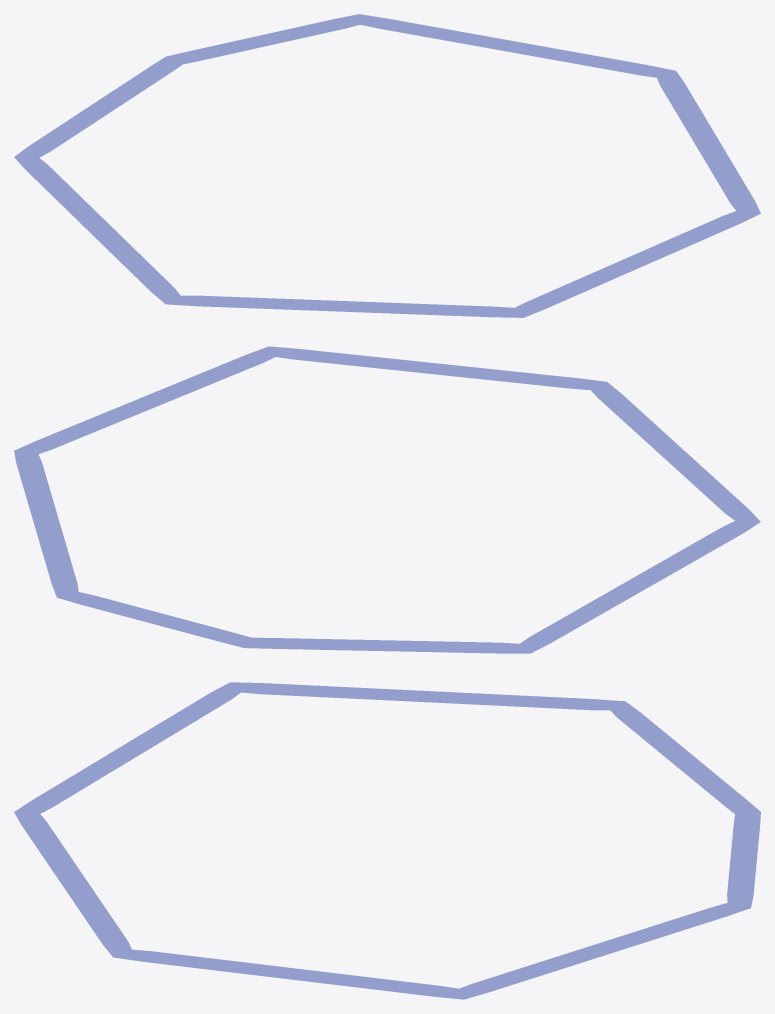
Rendered from medium.ring.fbx.
3 renders of one model, top to bottom at view 1: azimuth 30°, elevation 25°; view 2: azimuth 150°, elevation 25°; view 3: azimuth 270°, elevation 25°, orthographic. The views are drawn at different scales.
Visible parts, largest first — view 1: ring.medium; view 2: ring.medium; view 3: ring.medium.
Part boxes in pixels (x1,y1,x2,y2): ring.medium: (14,14,760,317); ring.medium: (14,346,760,653); ring.medium: (14,682,760,999).
Size of the model in its own units: 333 by 9.54e-07 by 331.
